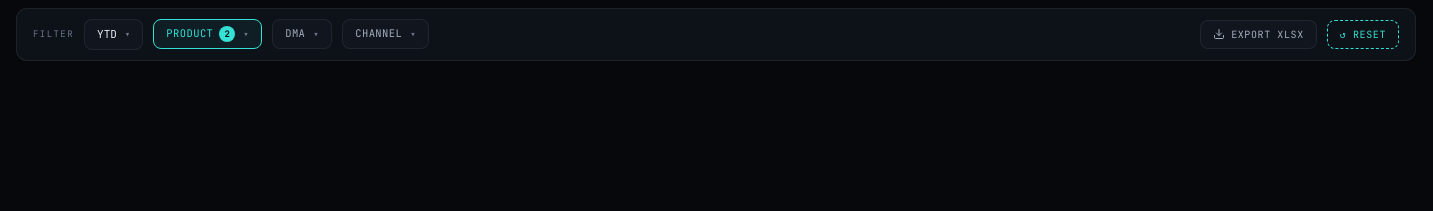
Test: FilterBar interactions › closes dropdown on Escape key
The image size is (1433, 211).
Click the button with aria-label "Date range" at (114, 34), box [84,19,143,50]
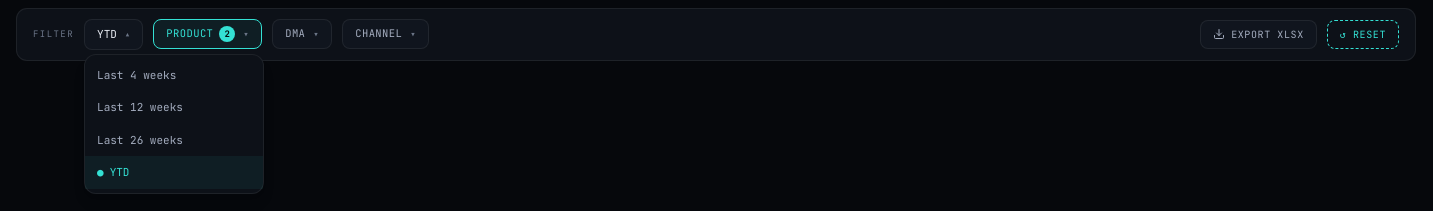
Now the list is shown, box [84,54,264,194]
# Press Escape on the container
Press Escape in the element named "Date range", box [84,19,143,50]
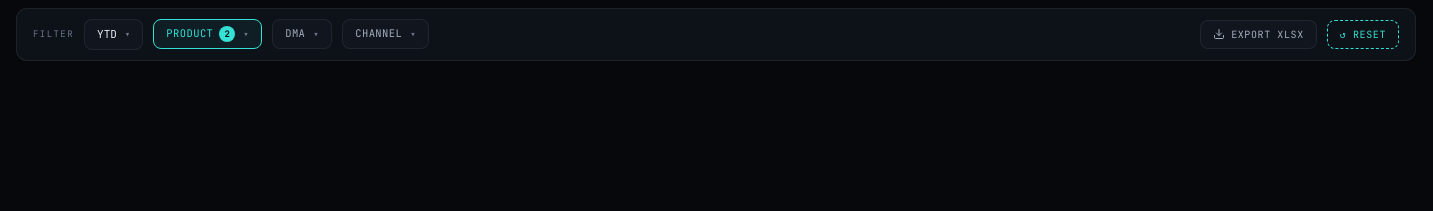
Now the list is gone
